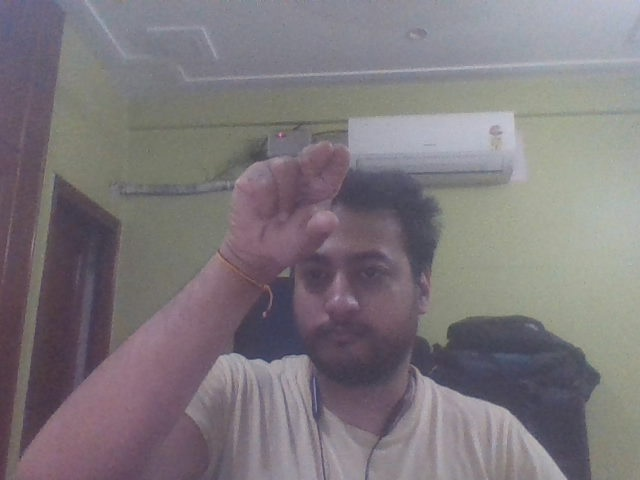No: (209, 138, 356, 304)
